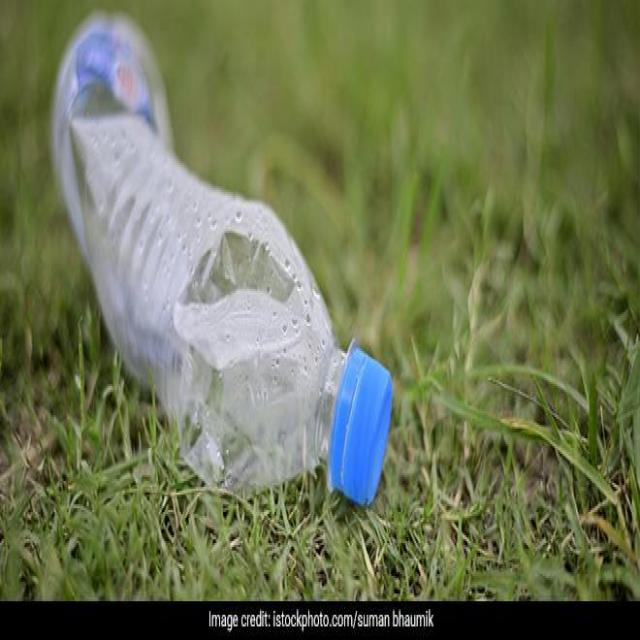bottle: (34, 0, 418, 506)
